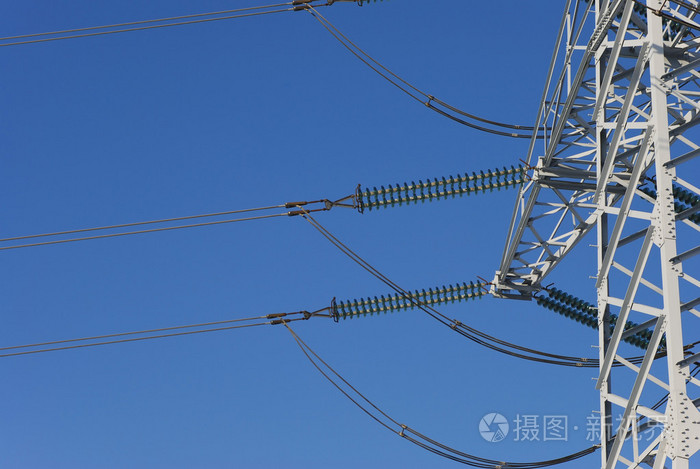insulator: (537, 288, 664, 354), (357, 165, 519, 214), (332, 279, 483, 325), (638, 182, 699, 221)
